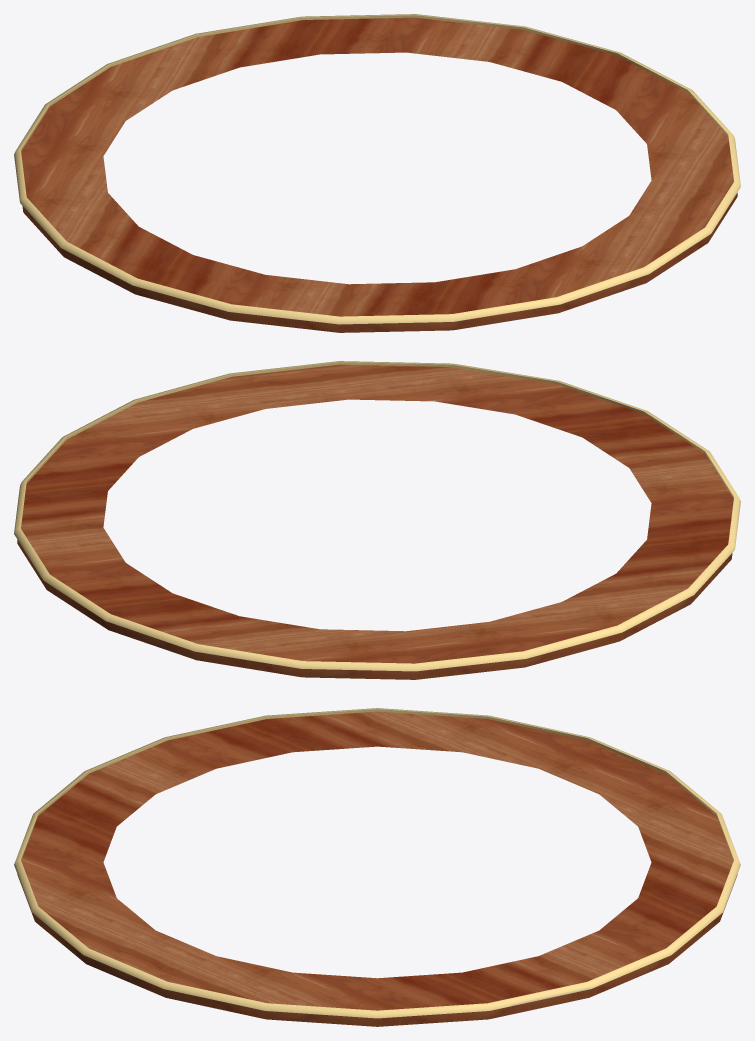
The picture shows the model from 3 angles, top to bottom: view 1: azimuth 30°, elevation 25°; view 2: azimuth 150°, elevation 25°; view 3: azimuth 270°, elevation 25°; orthographic projection.
Visible parts, largest first — view 1: Base; view 2: Base; view 3: Base.
Part boxes in pixels (x1=…): Base: x1=14, y1=14, x2=740, y2=332; Base: x1=14, y1=361, x2=740, y2=679; Base: x1=14, y1=708, x2=740, y2=1026.
Bounding box in the file's own units: 12.11 × 0.2719 × 12.11.
Materials: 1 (1 with a texture image).
